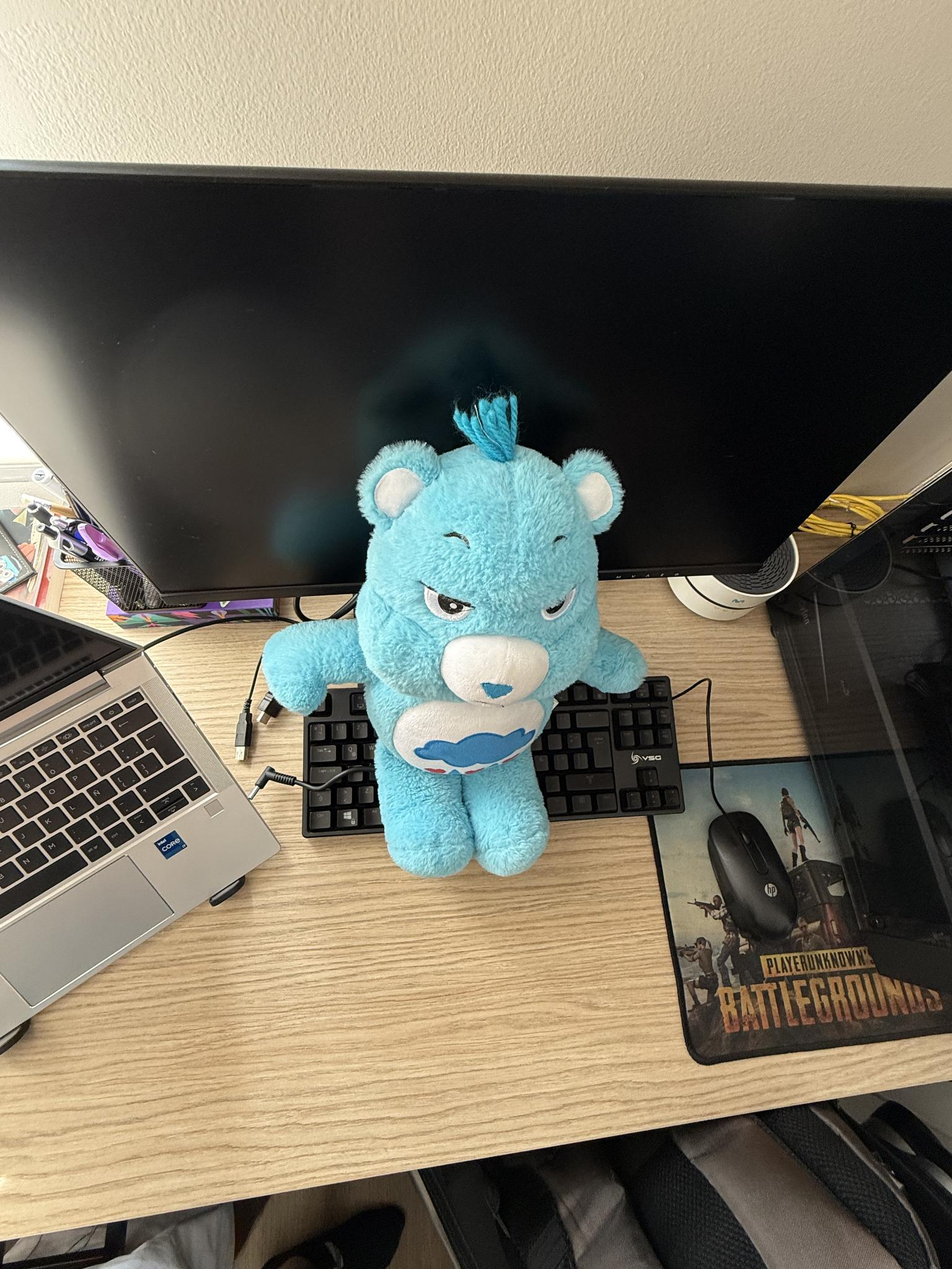peluche_Juan Jose: (262, 392, 645, 875)
